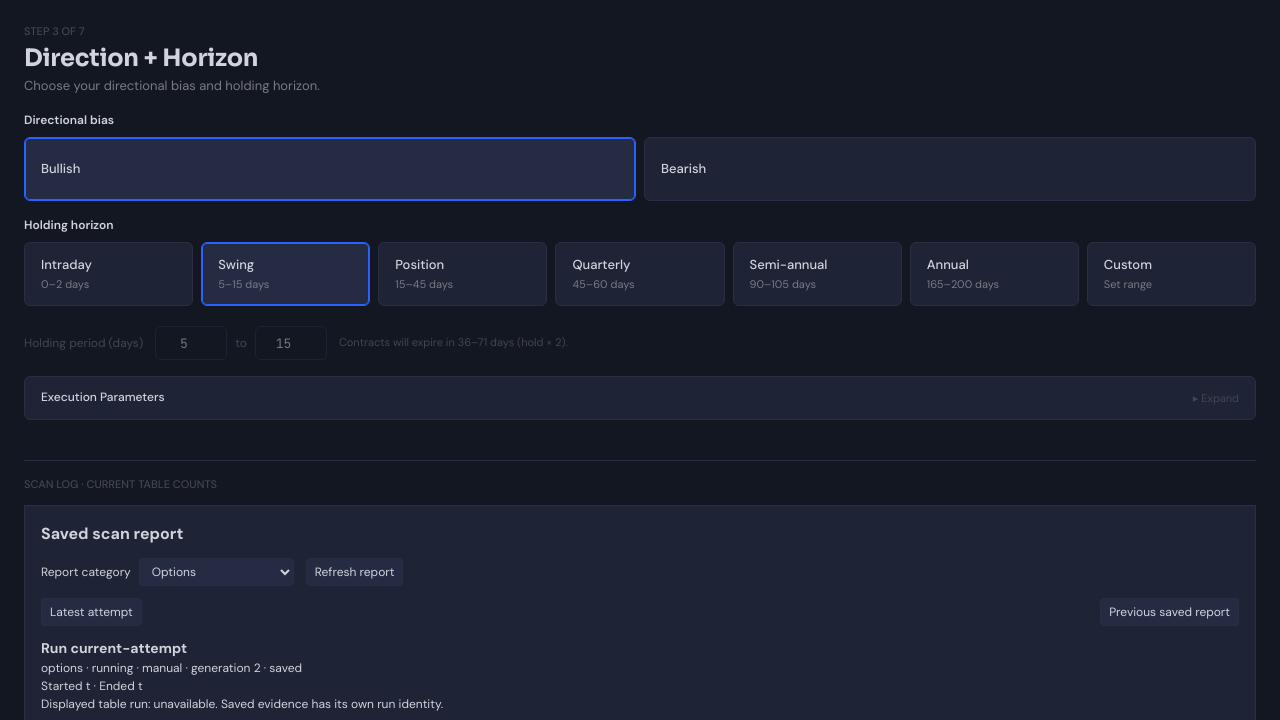
Step 3 — durable evidence is separate from gated live table counts › hides the previous run's funnel while a new scan is running
Expected: the text "Pipeline Root-Cause Inspector" is not shown
Expected: the text "518" is not shown
Step 1. Click the button "Previous saved report" → {"x": 1170, "y": 612}, box [1100,598,1239,626]
(page scrolled)
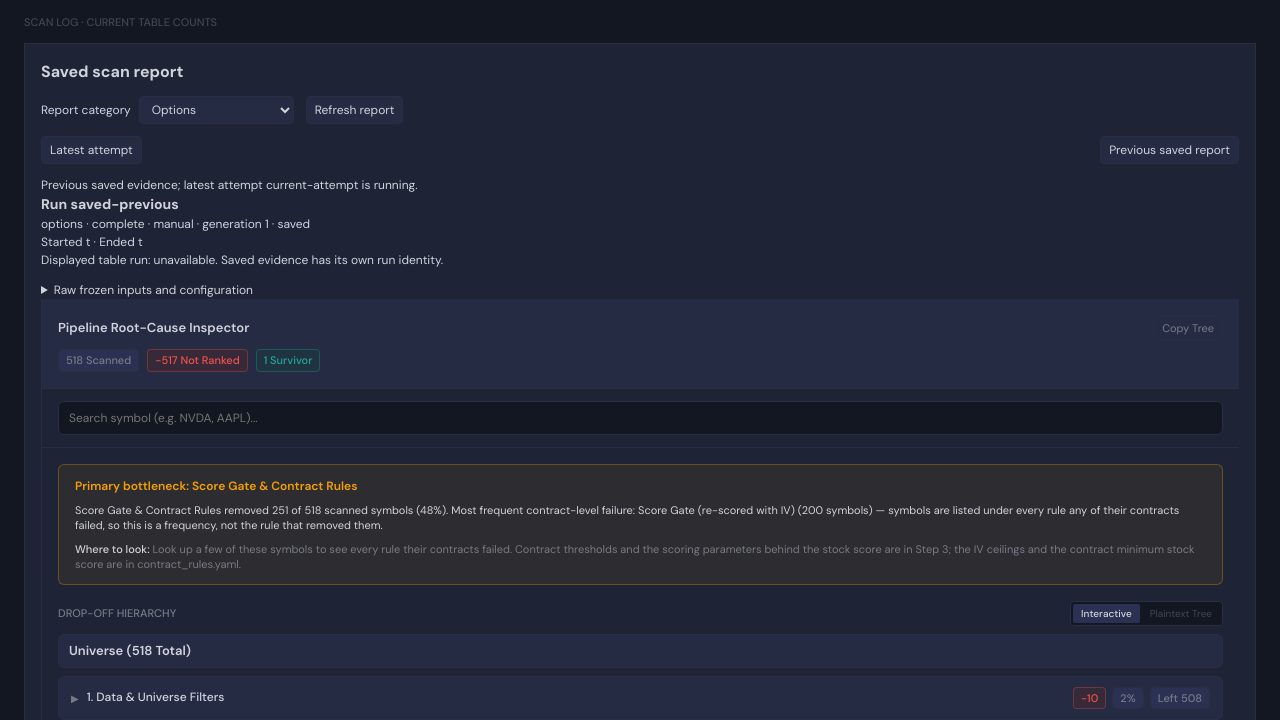
Now the heading "Run saved-previous" is shown, box [41,195,179,213]
Now the text "518 Scanned" is shown, box [58,349,139,372]
